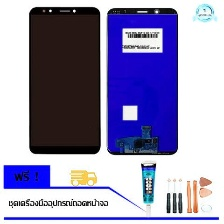phone: (103, 6, 180, 160), (25, 5, 102, 157)
